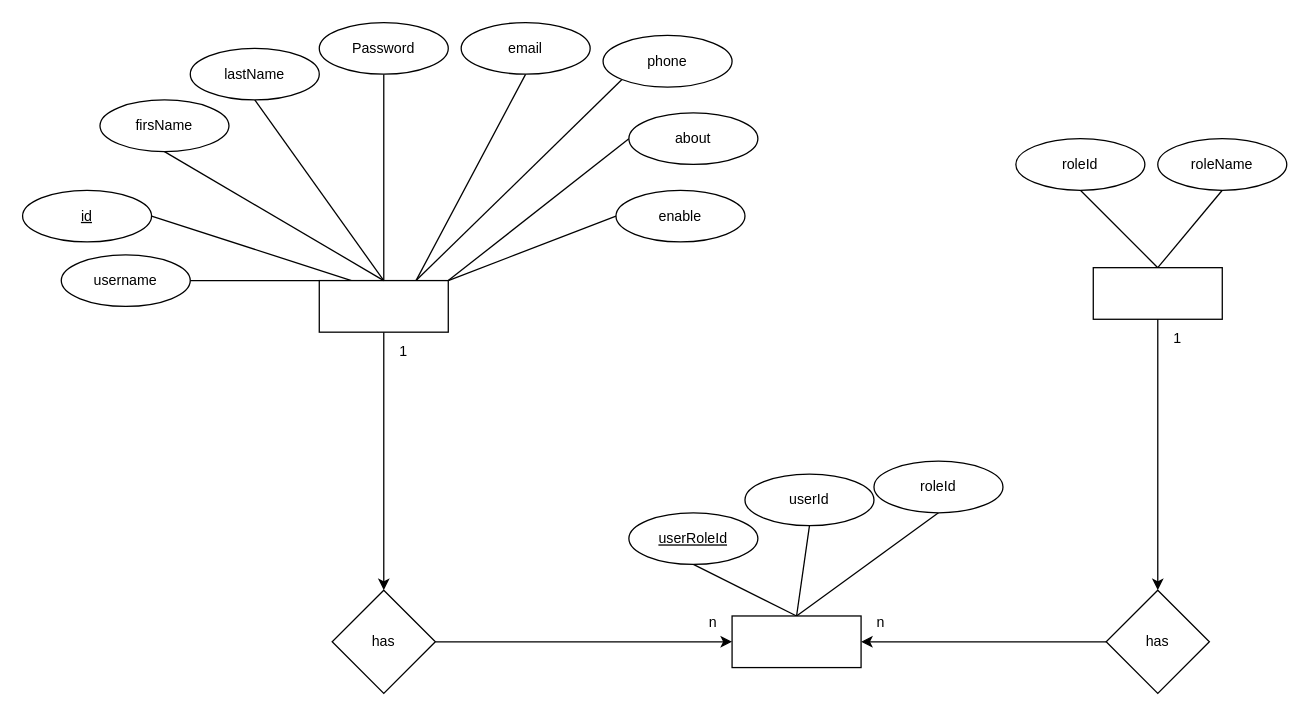
Some shapes in this 1309 by 716 pixel diagram are drawn without their labels. The shapes that lost their labels are listed below. From the top down, each one's box as (x1, y1, x2, y2) in pixels, then its label:
(318, 279, 448, 332): User
(1092, 266, 1222, 319): Role
(731, 615, 861, 668): User_Role
